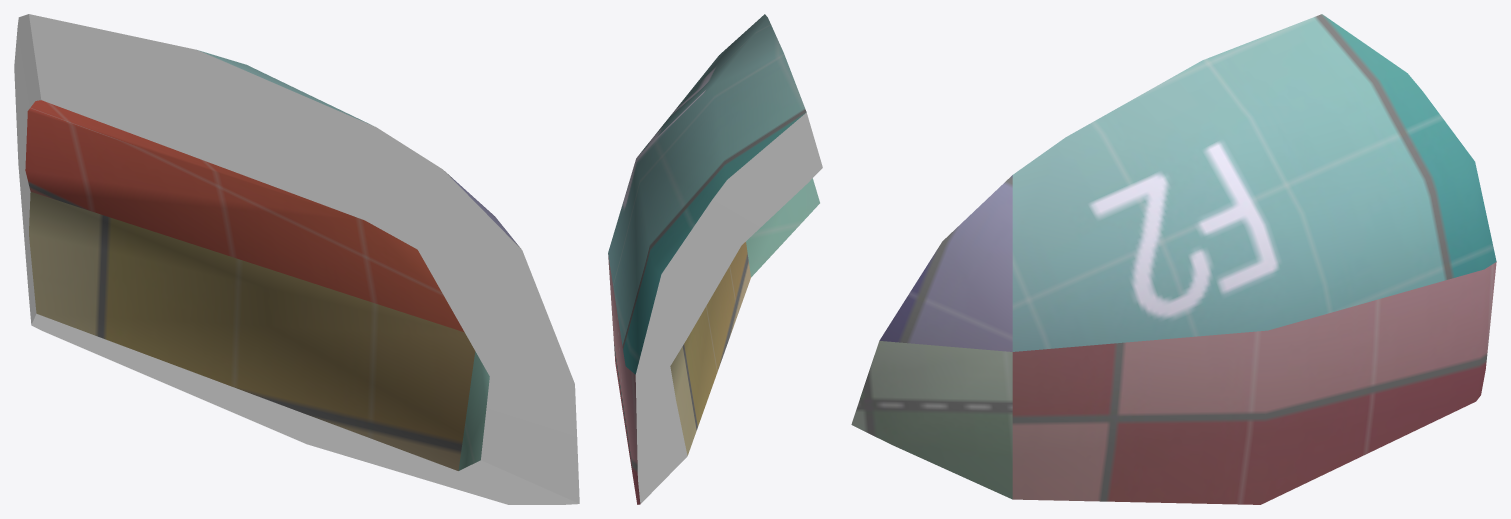
The model's file is MediumUrn_SHAT_cell_010.fbx.
3 views of the same model, side by side, from view 1: azimuth 30°, elevation 25°; view 2: azimuth 150°, elevation 25°; view 3: azimuth 270°, elevation 25° (orthographic). The views are drawn at different scales.
Visible parts, largest first — view 1: MediumUrn_SHAT_cell_010; view 2: MediumUrn_SHAT_cell_010; view 3: MediumUrn_SHAT_cell_010.
Boxes of the visible parts, bbox=[...] form: MediumUrn_SHAT_cell_010: bbox=[14, 14, 579, 504]; MediumUrn_SHAT_cell_010: bbox=[608, 14, 822, 504]; MediumUrn_SHAT_cell_010: bbox=[851, 14, 1496, 504].
Bounding box in the file's own units: 0.2607 × 0.3663 × 0.5475.
2 materials, 1 textured.
